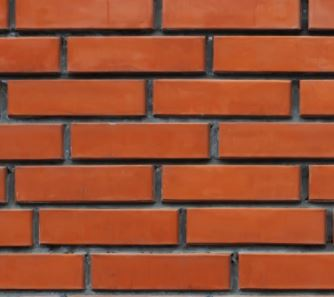brick: (185, 205, 328, 247), (12, 165, 157, 205), (88, 251, 233, 291), (152, 77, 293, 118), (161, 163, 302, 204), (68, 120, 212, 160), (36, 206, 180, 245), (4, 79, 147, 116), (66, 35, 206, 72), (217, 120, 334, 159), (212, 35, 334, 71), (237, 249, 334, 292), (14, 1, 155, 30), (159, 1, 297, 30), (1, 251, 85, 291), (1, 122, 65, 162), (1, 38, 63, 72), (298, 77, 334, 118), (1, 207, 33, 246)
